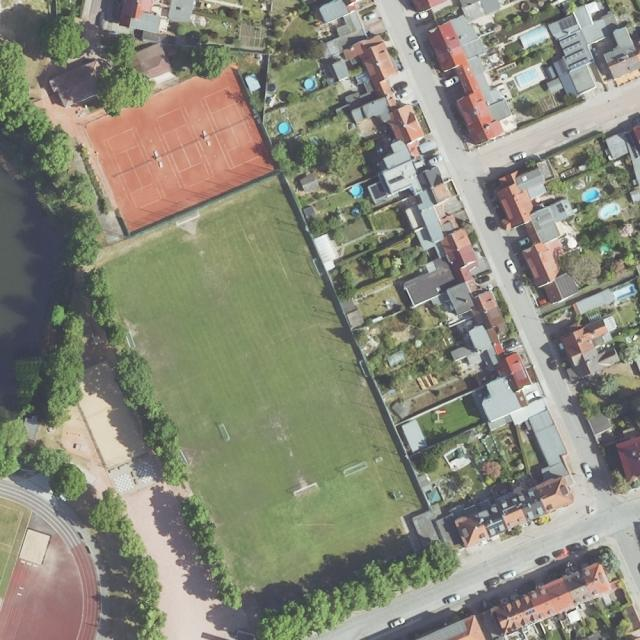PV: (558, 33, 590, 71), (555, 274, 578, 298), (558, 16, 577, 30), (525, 609, 535, 615)
ST: (556, 202, 566, 213)
